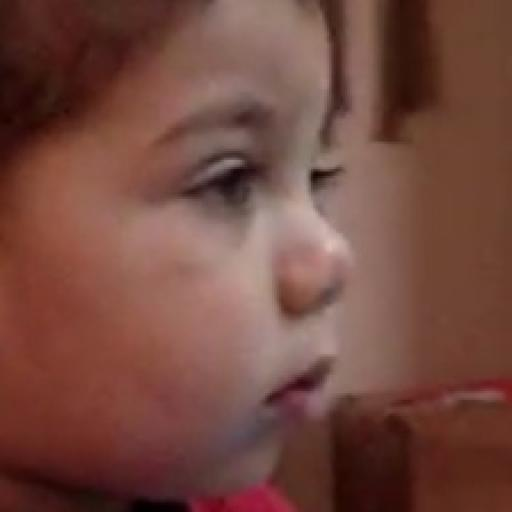Autism: (34, 0, 409, 457)
